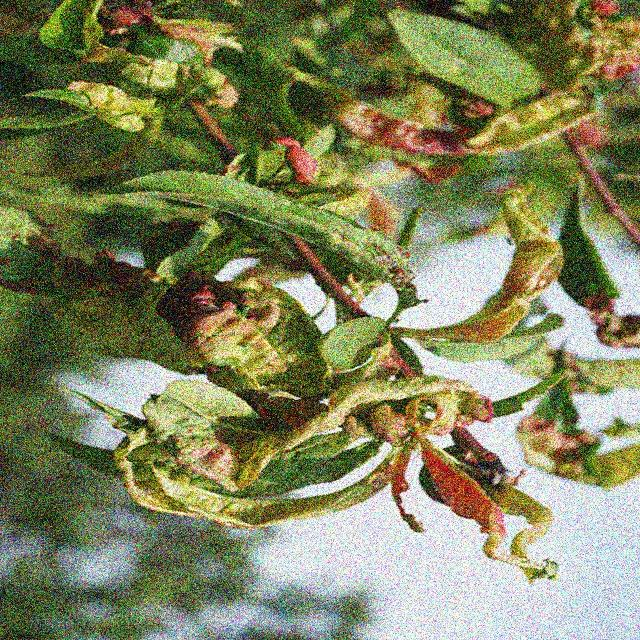leaf_curl: (389, 376, 567, 599), (402, 140, 580, 363)
